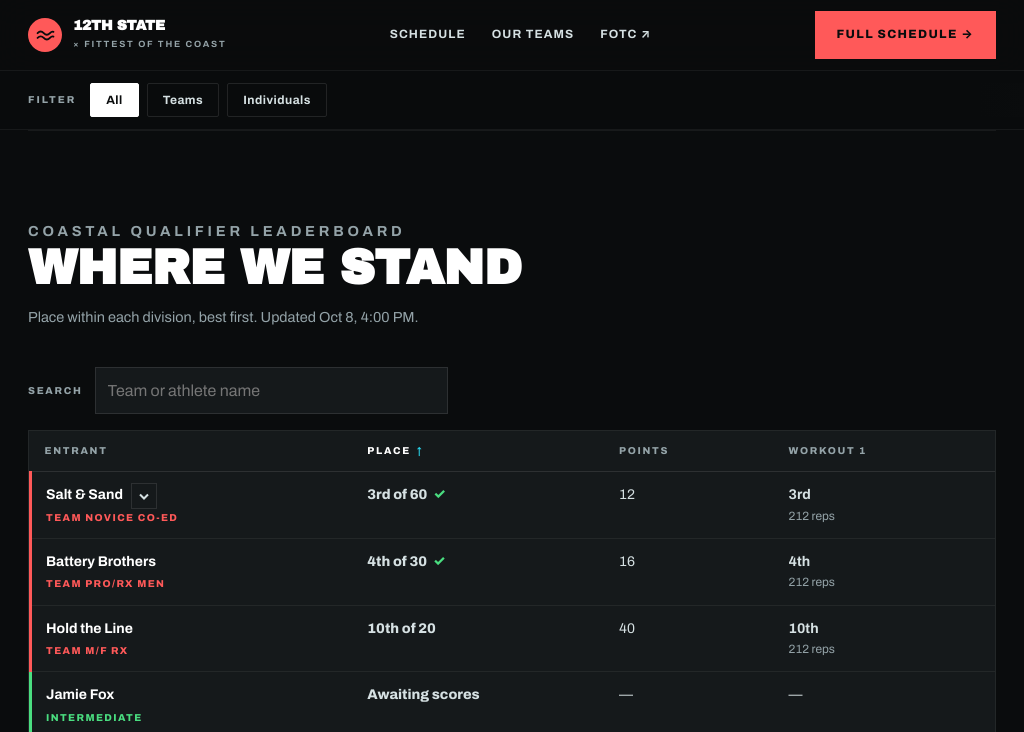
Scenario: Road to Charleston › says so when the search matches nobody
Type "zzz" into the search field labelled "Search" at (271, 391), box [94,367,448,414]
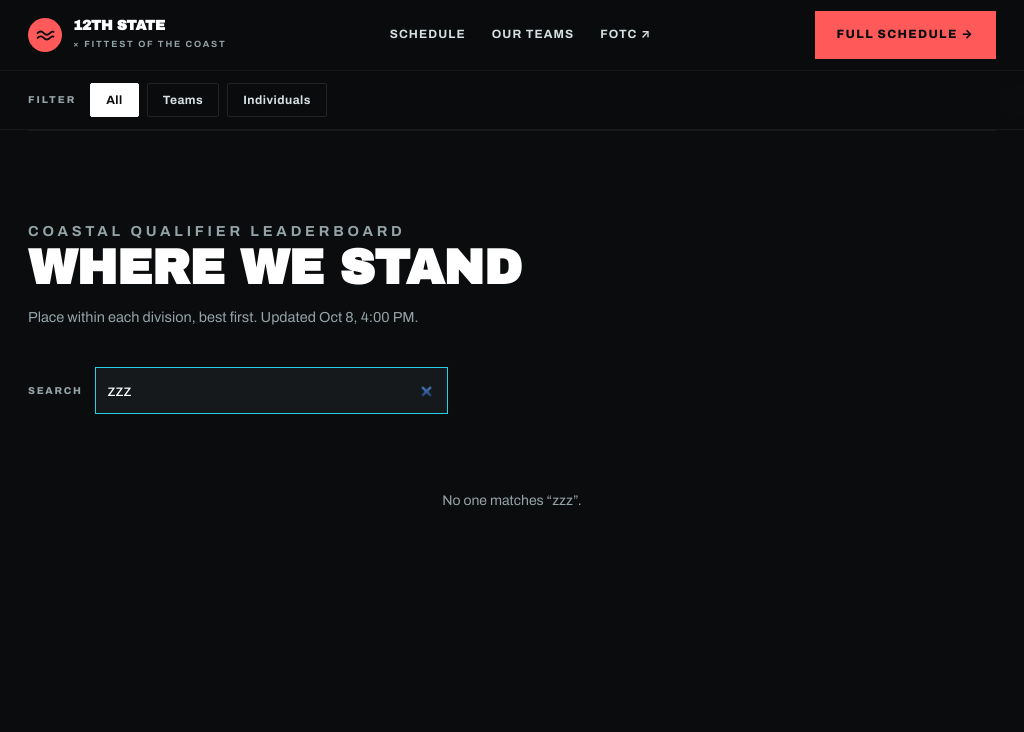
expect the text "No one matches “zzz”." is shown: met, box [442,493,582,508]
